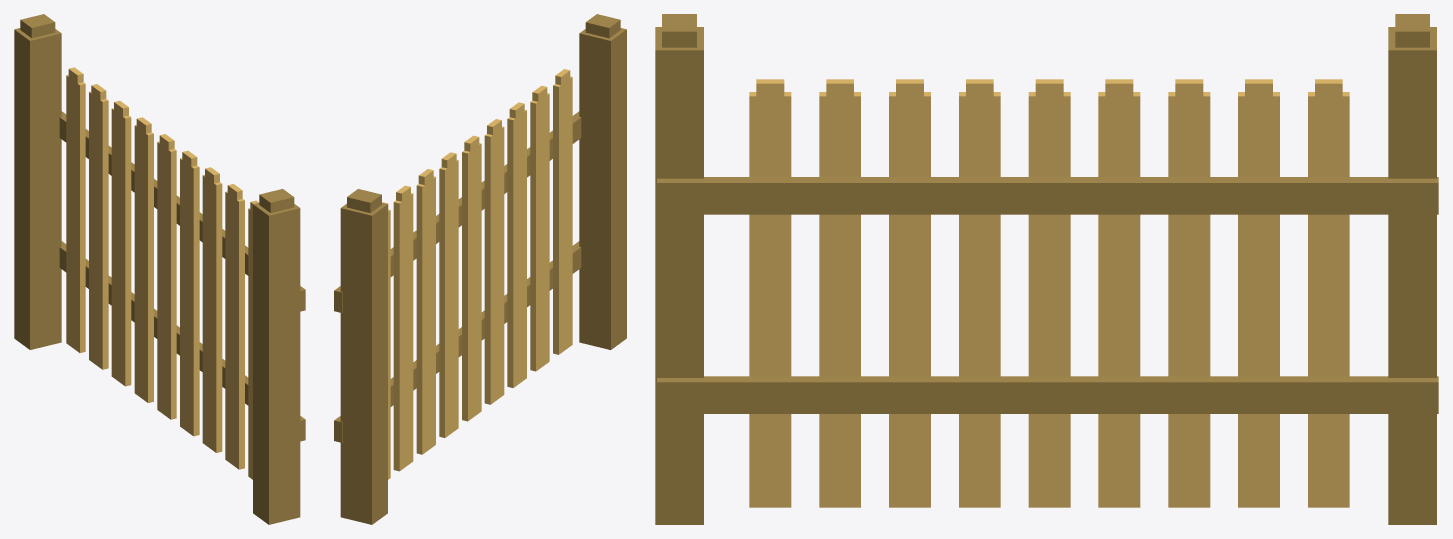
Rendered from fenceLow.gltf.
3 renders of one model, left to right at view 1: azimuth 30°, elevation 25°; view 2: azimuth 150°, elevation 25°; view 3: azimuth 270°, elevation 25°, orthographic. The views are drawn at different scales.
Visible parts, largest first — view 1: ee32d28c-f4ee-b187-1c8a-b80c1fa8f7df, 42c3c76e-fbcd-3972-049b-9053e5cadfc9, 04332e1d-d24b-6896-80ae-02afa1b75b05, 17f10941-b1bf-cca3-441a-162c147449bc, df75c9d0-93c3-30be-f9ad-760a90947391, cff9956a-cdb9-ee9c-b5c2-47a55eba16e2, 0d87a609-f3de-0776-0c05-d20369ea208c, 0d916a57-283b-3a29-e273-63e2140b0059, adf2e950-4376-fa25-f658-86744de54f41, 30a746fd-fe80-5579-637f-6df3e5cbdc95, fe6a43be-081a-1633-eb1c-1daa3d578071, 907a529e-197f-d3fe-328c-81361c233370 (+10 smaller); view 2: 42c3c76e-fbcd-3972-049b-9053e5cadfc9, ee32d28c-f4ee-b187-1c8a-b80c1fa8f7df, 0d87a609-f3de-0776-0c05-d20369ea208c, 30a746fd-fe80-5579-637f-6df3e5cbdc95, 04332e1d-d24b-6896-80ae-02afa1b75b05, 0d916a57-283b-3a29-e273-63e2140b0059, 0fe7bcdb-63a7-1403-4e33-5eeee13c94c3, adf2e950-4376-fa25-f658-86744de54f41, df75c9d0-93c3-30be-f9ad-760a90947391, 17f10941-b1bf-cca3-441a-162c147449bc, 3f0d7546-5c12-bd6b-130d-c7ae14753d32, 4a2eab08-8669-f48f-0243-fe11d027d16f (+10 smaller); view 3: 97e10ba1-2790-4d05-d610-a636239b1157, 8bd984cd-3954-8545-cced-258e37b90b83, ee32d28c-f4ee-b187-1c8a-b80c1fa8f7df, 42c3c76e-fbcd-3972-049b-9053e5cadfc9, 04332e1d-d24b-6896-80ae-02afa1b75b05, 17f10941-b1bf-cca3-441a-162c147449bc, adf2e950-4376-fa25-f658-86744de54f41, 30a746fd-fe80-5579-637f-6df3e5cbdc95, cff9956a-cdb9-ee9c-b5c2-47a55eba16e2, df75c9d0-93c3-30be-f9ad-760a90947391, 0d916a57-283b-3a29-e273-63e2140b0059, 0d87a609-f3de-0776-0c05-d20369ea208c (+12 smaller).
Part boxes in pixels (x1=…): ee32d28c-f4ee-b187-1c8a-b80c1fa8f7df: x1=253, y1=202, x2=300, y2=524; 42c3c76e-fbcd-3972-049b-9053e5cadfc9: x1=14, y1=28, x2=61, y2=349; 04332e1d-d24b-6896-80ae-02afa1b75b05: x1=111, y1=108, x2=131, y2=386; 17f10941-b1bf-cca3-441a-162c147449bc: x1=157, y1=141, x2=176, y2=419; df75c9d0-93c3-30be-f9ad-760a90947391: x1=225, y1=191, x2=244, y2=469; cff9956a-cdb9-ee9c-b5c2-47a55eba16e2: x1=66, y1=75, x2=85, y2=352; 0d87a609-f3de-0776-0c05-d20369ea208c: x1=89, y1=91, x2=108, y2=369; 0d916a57-283b-3a29-e273-63e2140b0059: x1=202, y1=174, x2=222, y2=452; adf2e950-4376-fa25-f658-86744de54f41: x1=134, y1=125, x2=153, y2=402; 30a746fd-fe80-5579-637f-6df3e5cbdc95: x1=180, y1=158, x2=199, y2=436; fe6a43be-081a-1633-eb1c-1daa3d578071: x1=182, y1=150, x2=197, y2=434; 907a529e-197f-d3fe-328c-81361c233370: x1=91, y1=84, x2=106, y2=367; 42c3c76e-fbcd-3972-049b-9053e5cadfc9: x1=340, y1=202, x2=387, y2=524; ee32d28c-f4ee-b187-1c8a-b80c1fa8f7df: x1=579, y1=28, x2=626, y2=349; 0d87a609-f3de-0776-0c05-d20369ea208c: x1=393, y1=193, x2=413, y2=471; 30a746fd-fe80-5579-637f-6df3e5cbdc95: x1=484, y1=126, x2=504, y2=404; 04332e1d-d24b-6896-80ae-02afa1b75b05: x1=416, y1=176, x2=435, y2=454; 0d916a57-283b-3a29-e273-63e2140b0059: x1=507, y1=110, x2=526, y2=387; 0fe7bcdb-63a7-1403-4e33-5eeee13c94c3: x1=553, y1=76, x2=572, y2=354; adf2e950-4376-fa25-f658-86744de54f41: x1=439, y1=160, x2=458, y2=437; df75c9d0-93c3-30be-f9ad-760a90947391: x1=530, y1=93, x2=549, y2=371; 17f10941-b1bf-cca3-441a-162c147449bc: x1=462, y1=143, x2=481, y2=421; 3f0d7546-5c12-bd6b-130d-c7ae14753d32: x1=464, y1=135, x2=479, y2=419; 4a2eab08-8669-f48f-0243-fe11d027d16f: x1=532, y1=85, x2=547, y2=369; 97e10ba1-2790-4d05-d610-a636239b1157: x1=657, y1=177, x2=1438, y2=214; 8bd984cd-3954-8545-cced-258e37b90b83: x1=657, y1=376, x2=1438, y2=413; ee32d28c-f4ee-b187-1c8a-b80c1fa8f7df: x1=655, y1=27, x2=703, y2=524; 42c3c76e-fbcd-3972-049b-9053e5cadfc9: x1=1388, y1=27, x2=1436, y2=524; 04332e1d-d24b-6896-80ae-02afa1b75b05: x1=1168, y1=92, x2=1210, y2=507; 17f10941-b1bf-cca3-441a-162c147449bc: x1=1028, y1=92, x2=1070, y2=507; adf2e950-4376-fa25-f658-86744de54f41: x1=1098, y1=92, x2=1140, y2=507; 30a746fd-fe80-5579-637f-6df3e5cbdc95: x1=959, y1=92, x2=1000, y2=507; cff9956a-cdb9-ee9c-b5c2-47a55eba16e2: x1=1308, y1=92, x2=1349, y2=507; df75c9d0-93c3-30be-f9ad-760a90947391: x1=819, y1=92, x2=860, y2=507; 0d916a57-283b-3a29-e273-63e2140b0059: x1=889, y1=92, x2=930, y2=507; 0d87a609-f3de-0776-0c05-d20369ea208c: x1=1238, y1=92, x2=1279, y2=507.
Bounding box in the file's own units: 0.1188 × 0.9688 × 1.4.
Materials: 2 (2 with a texture image).
